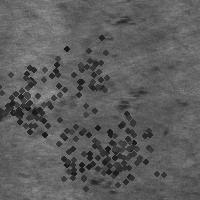rolled-in_scale: (65, 98, 171, 200), (30, 102, 128, 200), (33, 24, 131, 122), (0, 49, 76, 153), (21, 93, 77, 138), (88, 145, 121, 195), (113, 84, 149, 115)
